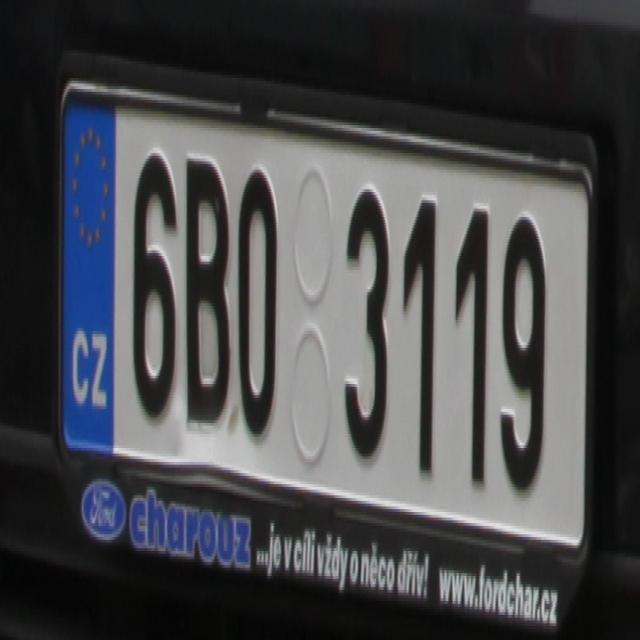0: (235, 161, 279, 434)
1: (454, 194, 491, 496), (400, 186, 438, 473)
3: (344, 183, 390, 464)
6: (132, 144, 176, 420)
9: (502, 203, 546, 487)
B: (180, 148, 230, 434)
